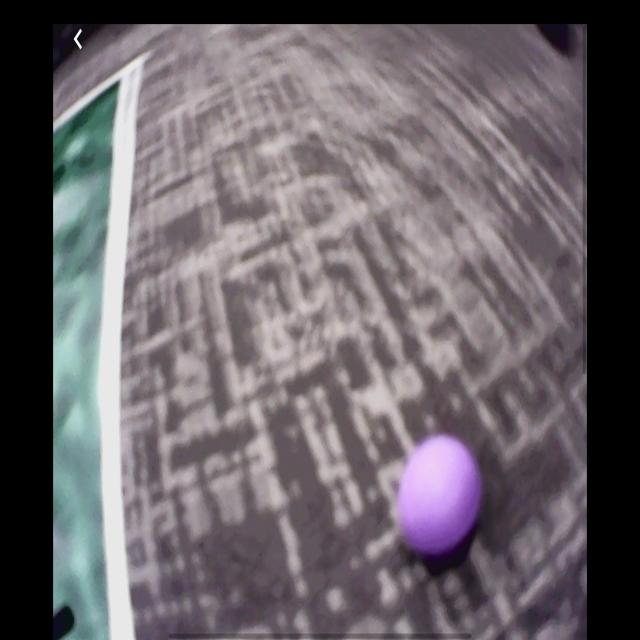ball: (398, 433, 483, 560)
